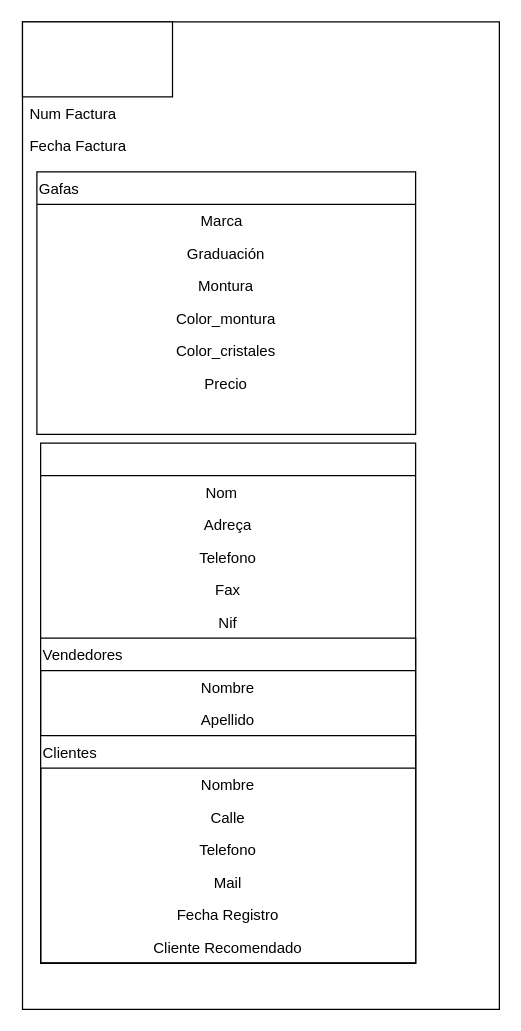
Image size: 521x1031. Some labels were removed from this diagram. The box of each missing label's shape, as (x1, y1, x2, y2) in pixels:
Proveidor: (39, 442, 416, 963)
VENTAS: (21, 21, 172, 97)
